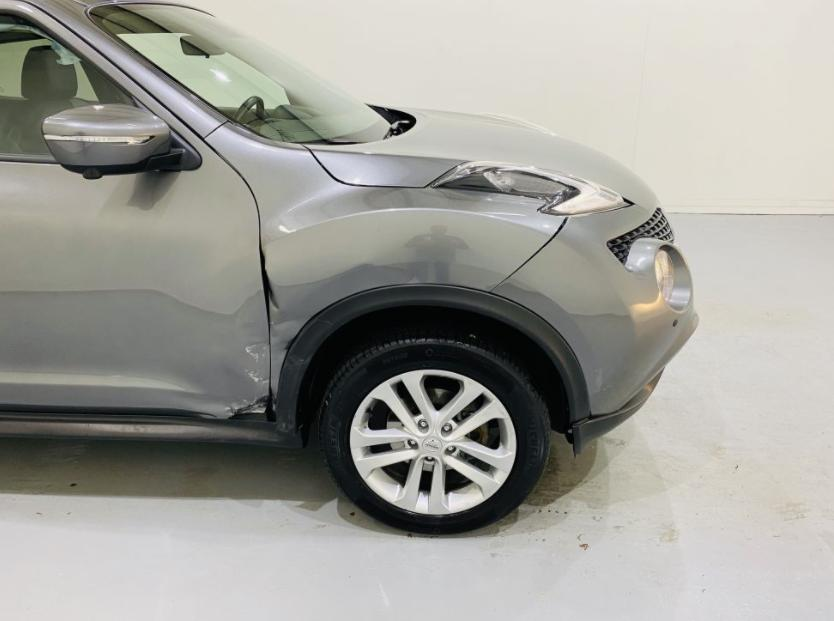Fender: (203, 120, 566, 415)
Front-bumper: (275, 203, 700, 458)
Front-door: (0, 0, 271, 422)
Front-wheel: (318, 323, 550, 535)
Front-window: (0, 10, 156, 164)
Grille: (607, 208, 674, 264)
Headlight: (424, 160, 632, 215), (623, 238, 693, 314)
Hood: (304, 104, 660, 211)
Mirror: (42, 102, 187, 180)
Rocker-panel: (0, 411, 302, 449)
Windshield: (89, 3, 417, 145)
